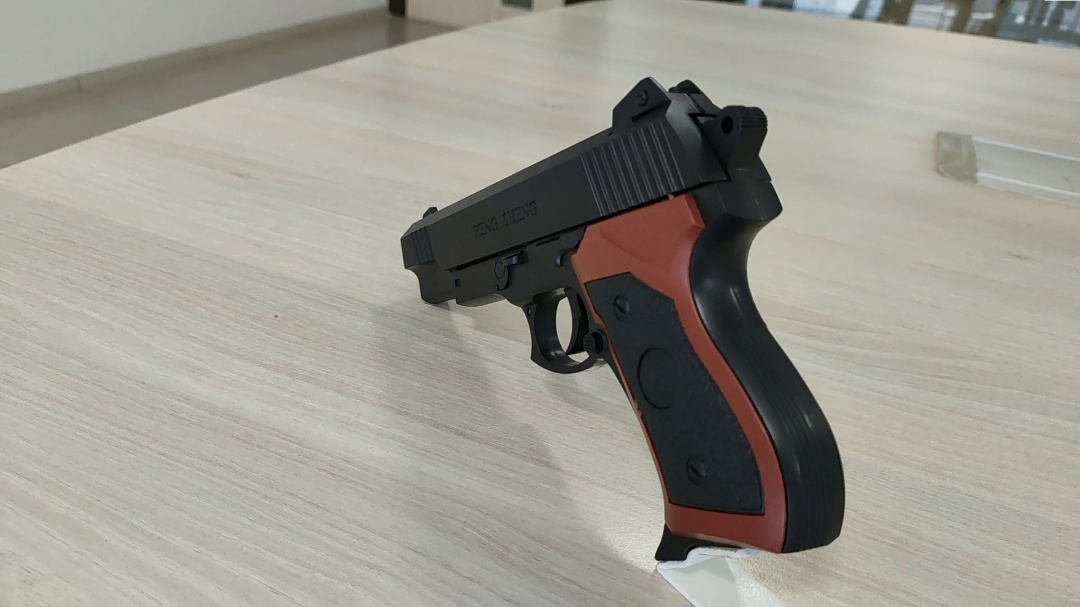gun: (221, 221, 648, 488)
